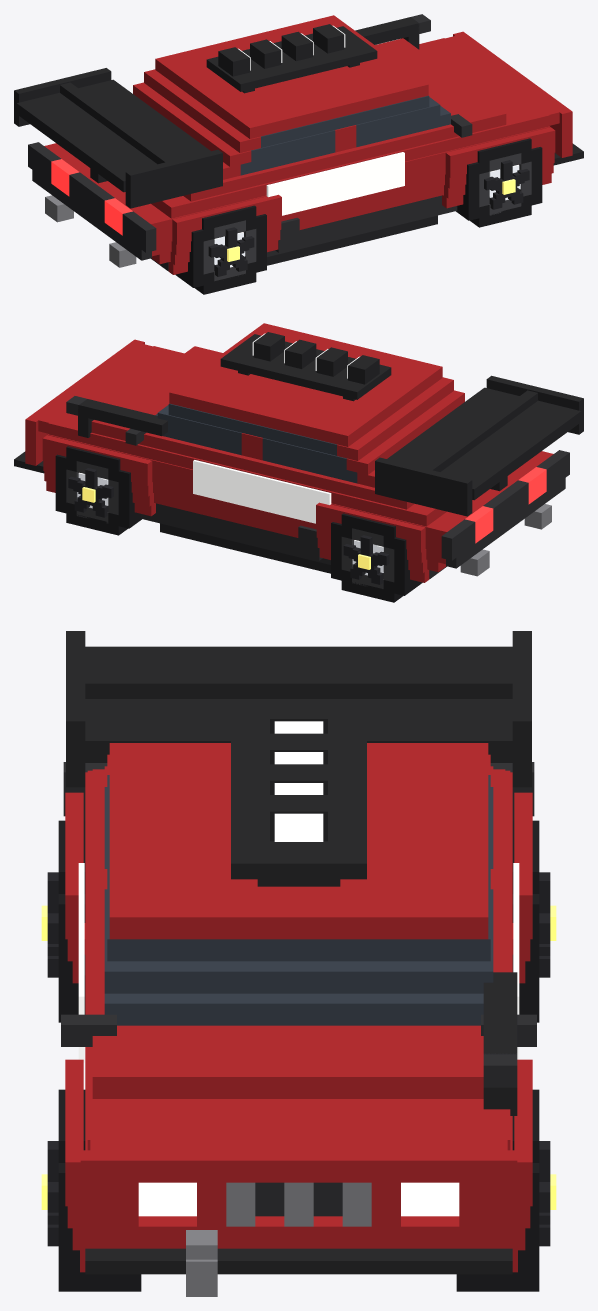
Rendered from rally_v2.glb.
3 renders of one model, top to bottom at view 1: azimuth 30°, elevation 25°; view 2: azimuth 150°, elevation 25°; view 3: azimuth 270°, elevation 25°, orthographic. The views are drawn at different scales.
Parts seen in each view (by area): view 1: car_body, car_spoiler, car_lamps, car_fascia, car_wheel_rr, car_wheel_fr, car_rear, car_fender, car_panel, car_snorkel, car_flap, car_exhaust_l (+1 smaller); view 2: car_body, car_spoiler, car_lamps, car_wheel_fl, car_wheel_rl, car_rear, car_fender, car_fascia, car_panel, car_snorkel, car_flap, car_exhaust_l (+1 smaller); view 3: car_body, car_fascia, car_spoiler, car_lamps, car_fender, car_splitter, car_wheel_fr, car_wheel_fl, car_snorkel, car_wheel_rl, car_wheel_rr, car_panel (+2 smaller).
Boxes of the visible parts, x1,y1,x2,y2 form: car_body: [44, 15, 549, 271]; car_spoiler: [14, 68, 222, 208]; car_lamps: [206, 24, 377, 93]; car_fascia: [423, 31, 572, 157]; car_wheel_rr: [175, 205, 266, 294]; car_wheel_fr: [456, 138, 542, 227]; car_rear: [28, 142, 156, 260]; car_fender: [168, 127, 555, 274]; car_panel: [266, 152, 404, 215]; car_snorkel: [355, 14, 430, 49]; car_flap: [275, 217, 299, 252]; car_exhaust_l: [45, 195, 73, 222]; car_body: [48, 323, 553, 579]; car_spoiler: [375, 375, 583, 516]; car_lamps: [220, 332, 391, 401]; car_wheel_fl: [55, 446, 141, 535]; car_wheel_rl: [331, 513, 422, 602]; car_rear: [441, 450, 569, 568]; car_fender: [42, 435, 429, 582]; car_fascia: [25, 339, 174, 465]; car_panel: [193, 460, 331, 523]; car_snorkel: [66, 396, 167, 437]; car_flap: [298, 525, 322, 560]; car_exhaust_l: [460, 549, 489, 576]; car_body: [85, 743, 512, 1150]; car_fascia: [61, 1014, 536, 1296]; car_spoiler: [66, 631, 531, 787]; car_lamps: [138, 702, 459, 1216]; car_fender: [65, 792, 532, 1272]; car_splitter: [85, 1248, 512, 1274]; car_wheel_fr: [41, 1089, 141, 1291]; car_wheel_fl: [456, 1089, 556, 1291]; car_snorkel: [483, 972, 517, 1115]; car_wheel_rl: [512, 820, 556, 1022]; car_wheel_rr: [41, 820, 85, 1022]; car_panel: [78, 863, 519, 1062].
Size of the model in its own units: 4.43 by 1.59 by 2.12.
